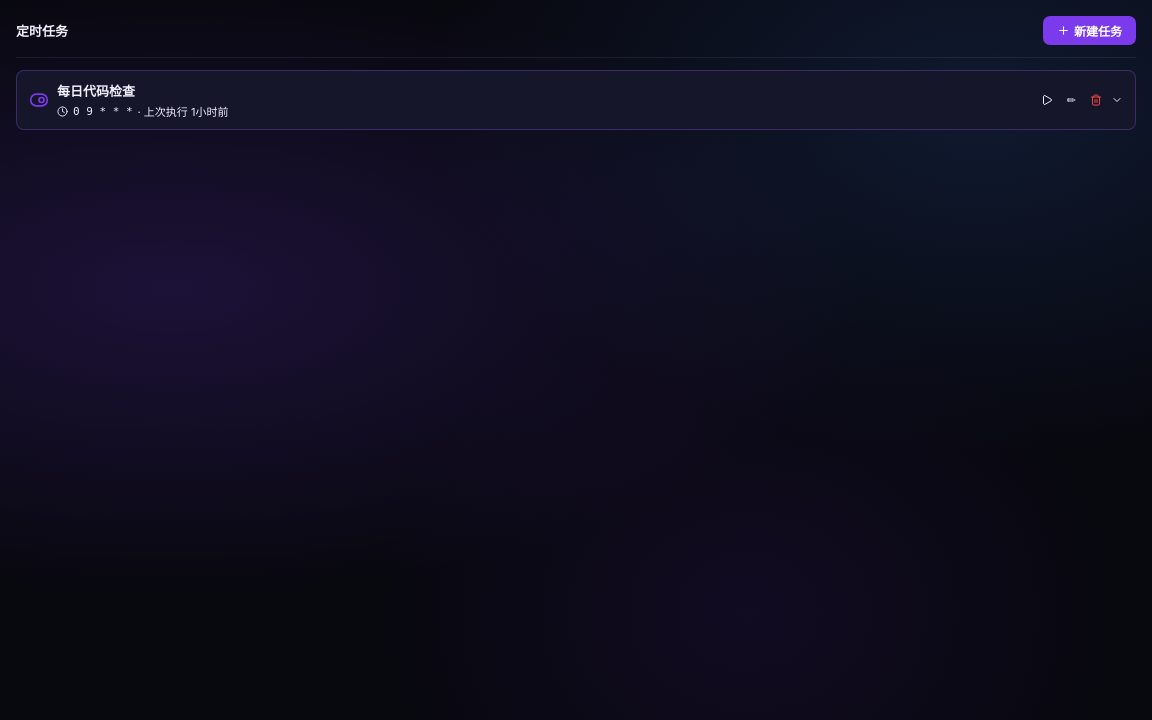
Test case: RoutinesPanel - 交互 › 点击「取消」应关闭创建表单
This screenshot has width=1152, height=720.
Click the button "新建任务" at (1090, 30), box 1043,16 -> 1136,45
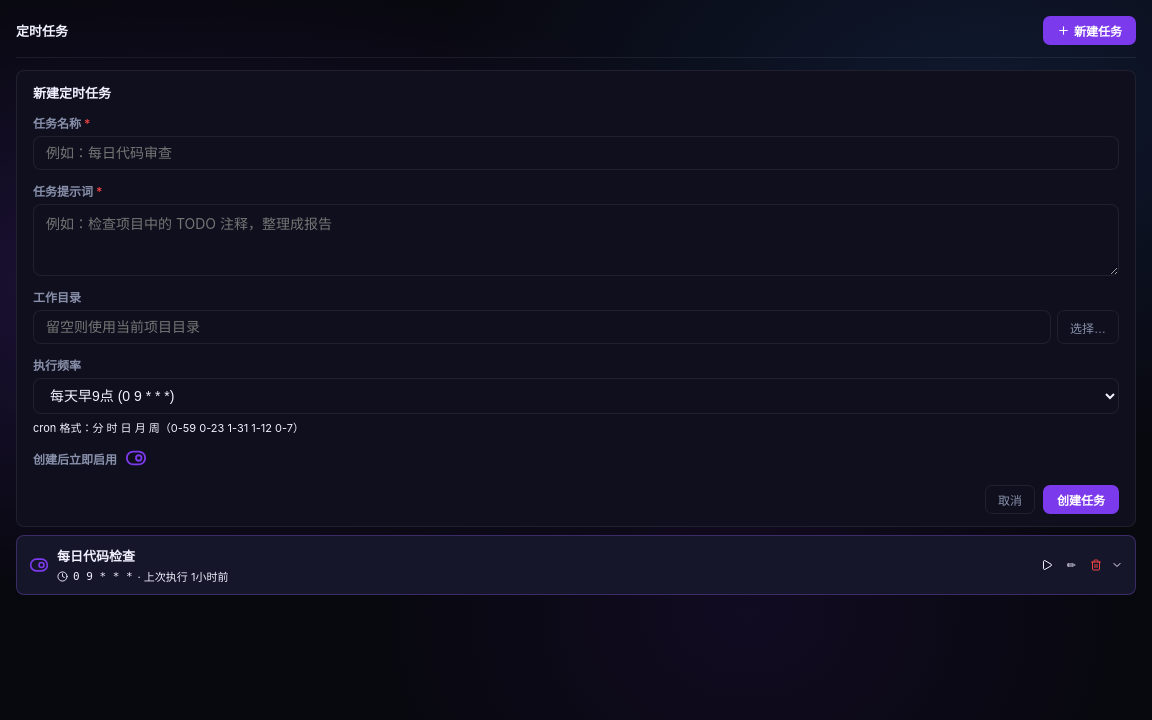
Expected: the text "新建定时任务" is shown, 33,85 -> 111,101
Click the button "取消" at (1010, 500), box 985,485 -> 1035,514
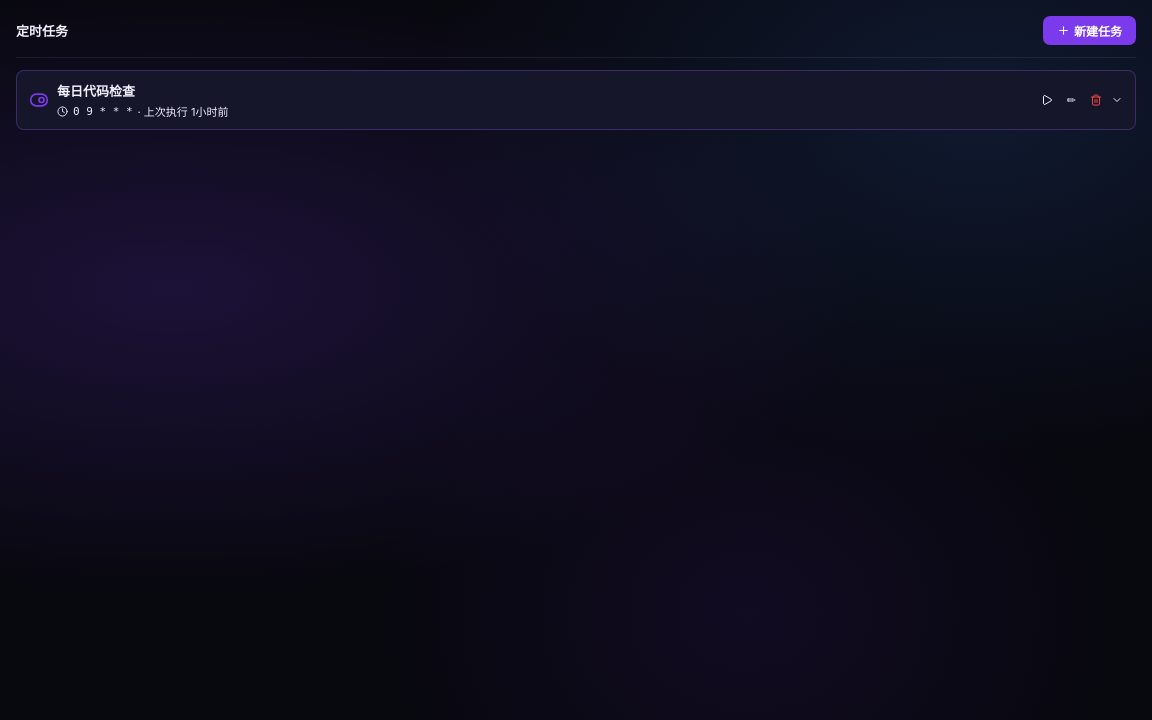
Expected: the text "新建定时任务" is gone
